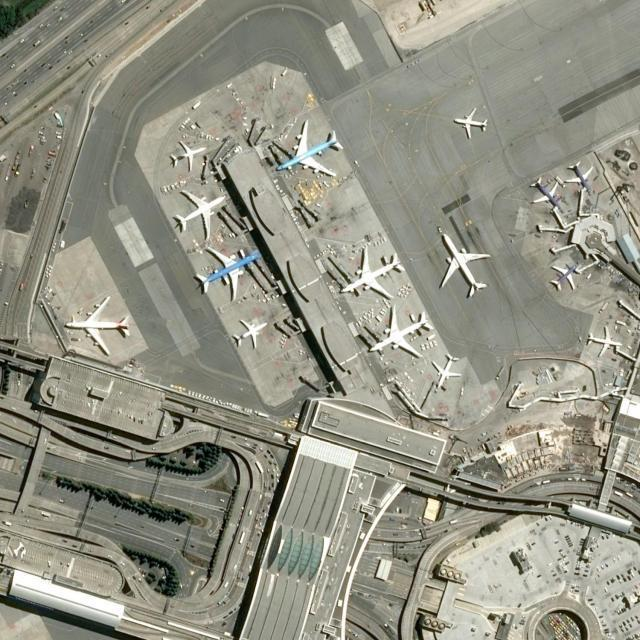Aircraft: (62, 297, 130, 359), (436, 231, 490, 304), (274, 124, 340, 180), (191, 247, 255, 303), (338, 249, 404, 301), (367, 306, 431, 358), (170, 188, 226, 243), (428, 351, 460, 392), (231, 319, 266, 353), (584, 328, 621, 358), (171, 141, 205, 173), (547, 262, 579, 296), (455, 112, 487, 140), (564, 164, 595, 192), (531, 177, 556, 209)
